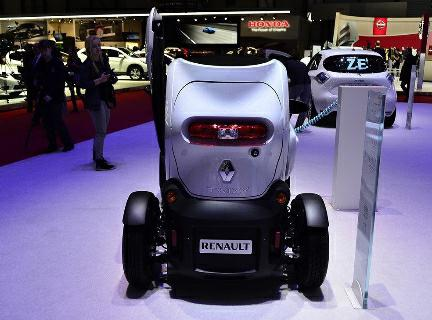雷诺-Twizy: (119, 47, 338, 313)
